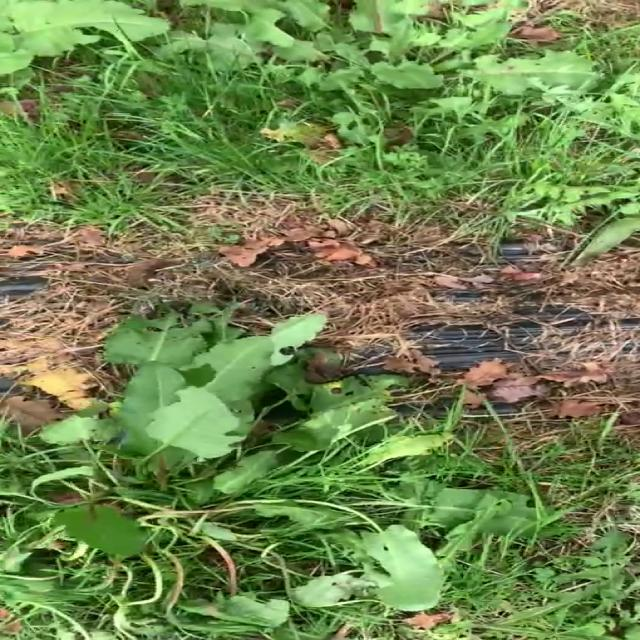organic waste: (0, 286, 462, 640), (164, 0, 615, 136), (0, 0, 163, 109)
